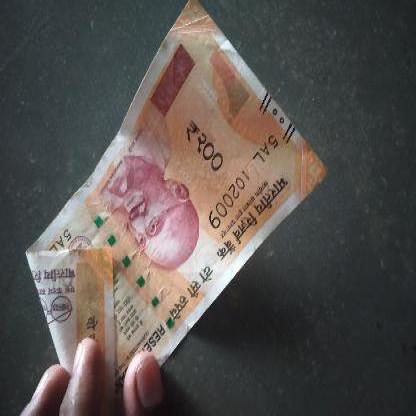New200Front: (37, 4, 296, 377)
